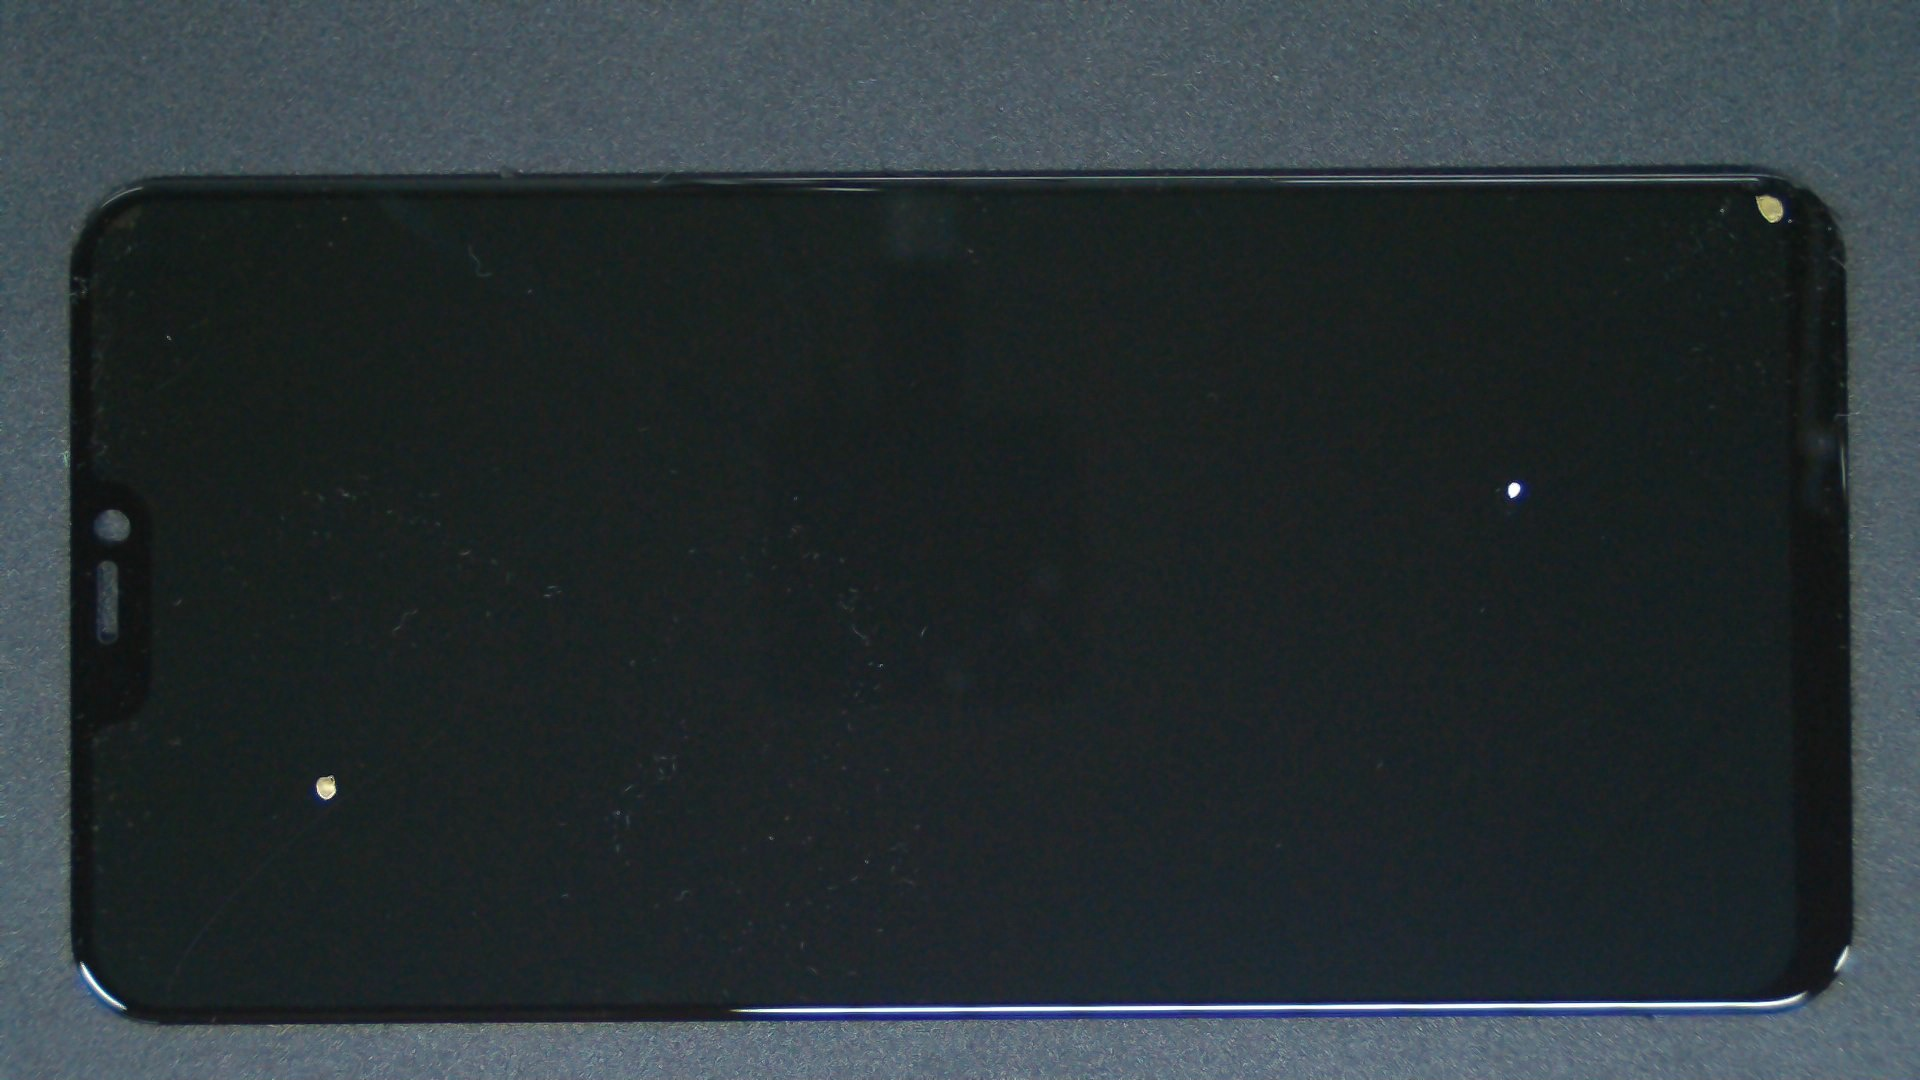oil: (758, 239, 1920, 720), (166, 385, 497, 1080), (884, 96, 1920, 290)
